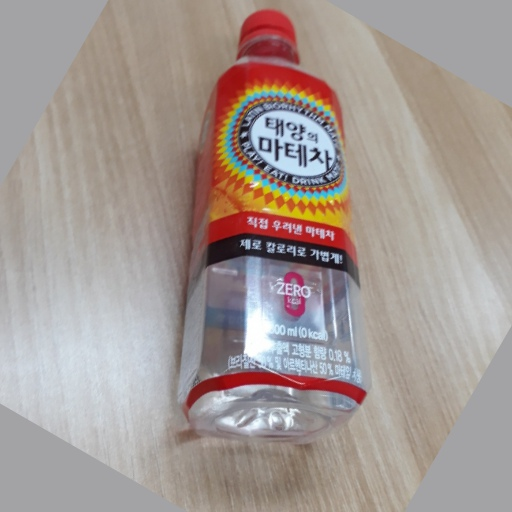Plastic_0: (177, 7, 373, 444)
